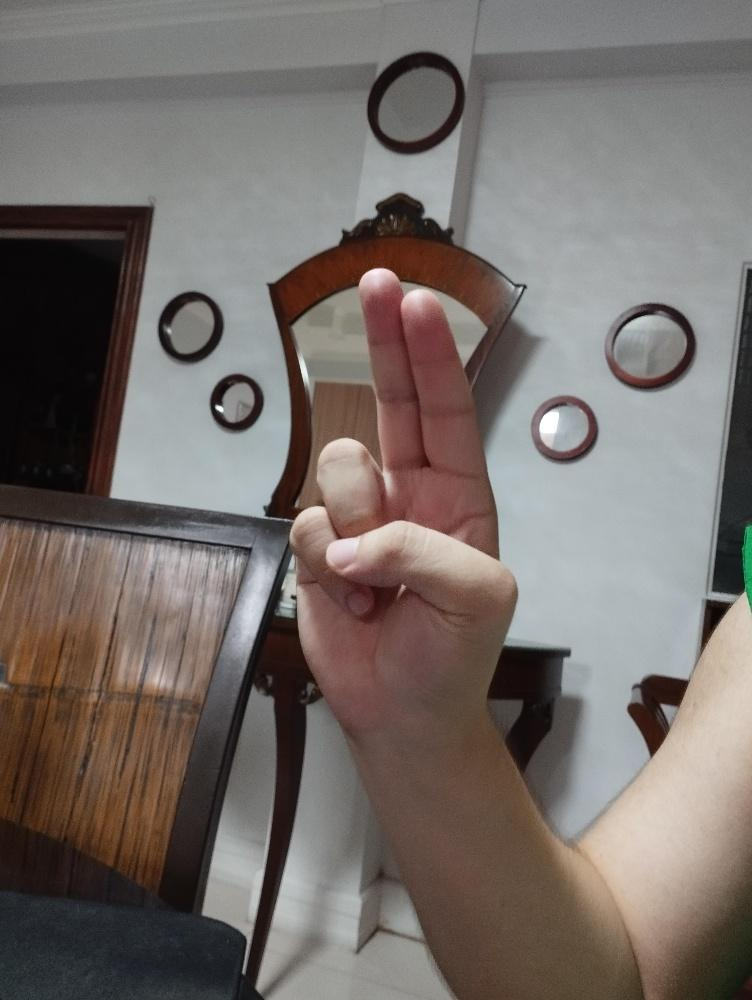u: (287, 265, 522, 736)
